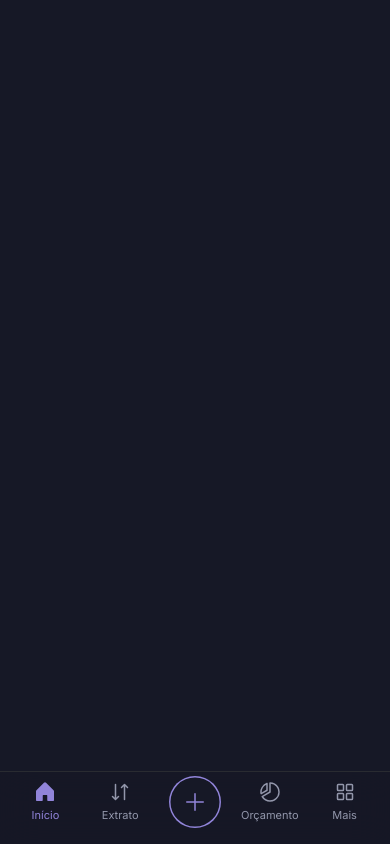
TabBar › o Mais abre a grade com o resto e Ajustes
Click the button "Mais".
click(345, 804)  # box [307,780,382,828]
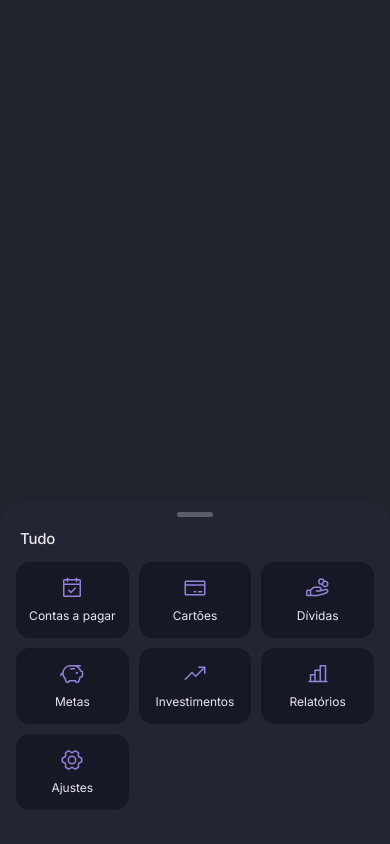
Now the dialog "Tudo" is shown, box [0,502,389,843]
Now the link "Ajustes" is shown, box [16,734,129,810]
